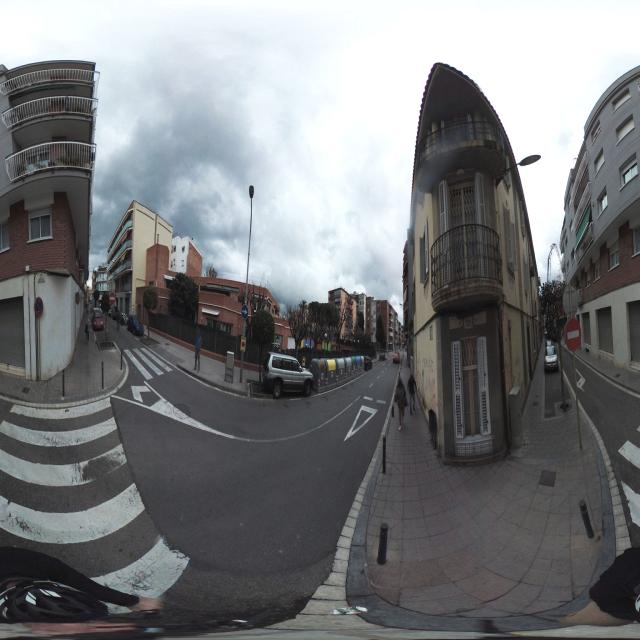car: (262, 352, 316, 398), (544, 340, 560, 373), (126, 316, 144, 336), (92, 310, 104, 332), (364, 354, 372, 372), (110, 306, 118, 319), (392, 352, 400, 364), (379, 352, 386, 362)
